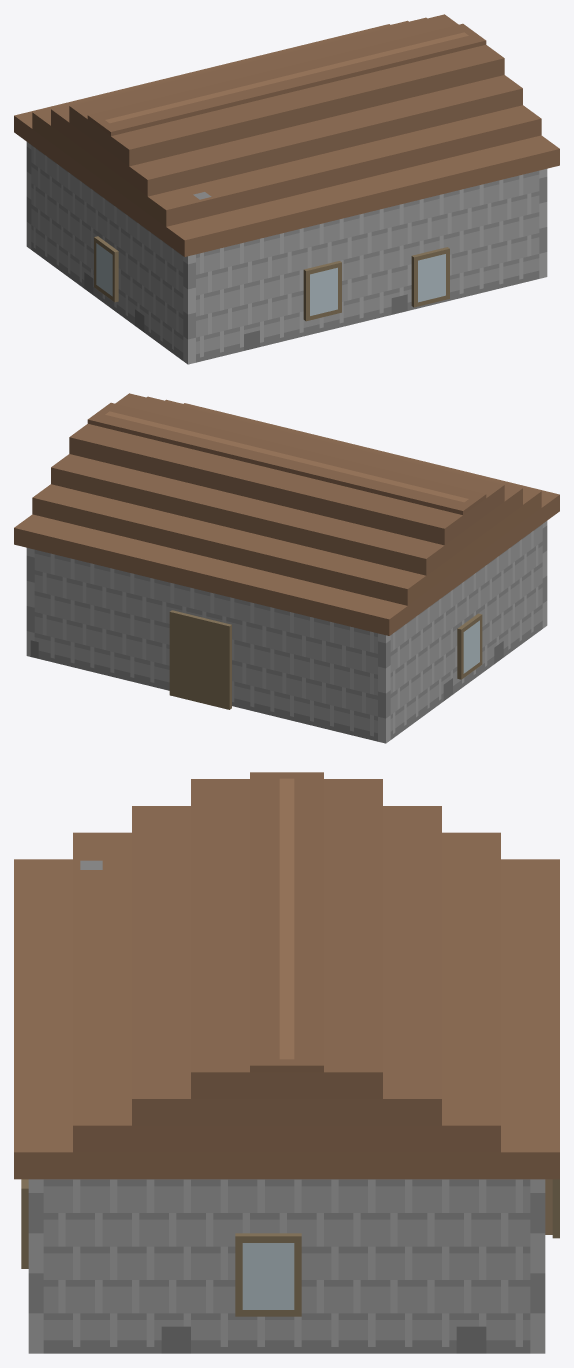
File: taller_lapidario_01.glb
The picture shows the model from 3 angles, top to bottom: view 1: azimuth 30°, elevation 25°; view 2: azimuth 150°, elevation 25°; view 3: azimuth 270°, elevation 25°; orthographic projection. The views are drawn at different scales.
Visible parts, largest first — view 1: taller_lapidario_01; view 2: taller_lapidario_01; view 3: taller_lapidario_01.
Part boxes in pixels (bbox=[...]): taller_lapidario_01: bbox=[14, 14, 559, 364]; taller_lapidario_01: bbox=[14, 393, 559, 743]; taller_lapidario_01: bbox=[14, 772, 559, 1353].
Size of the model in its own units: 9.4 by 4.4 by 7.4.
